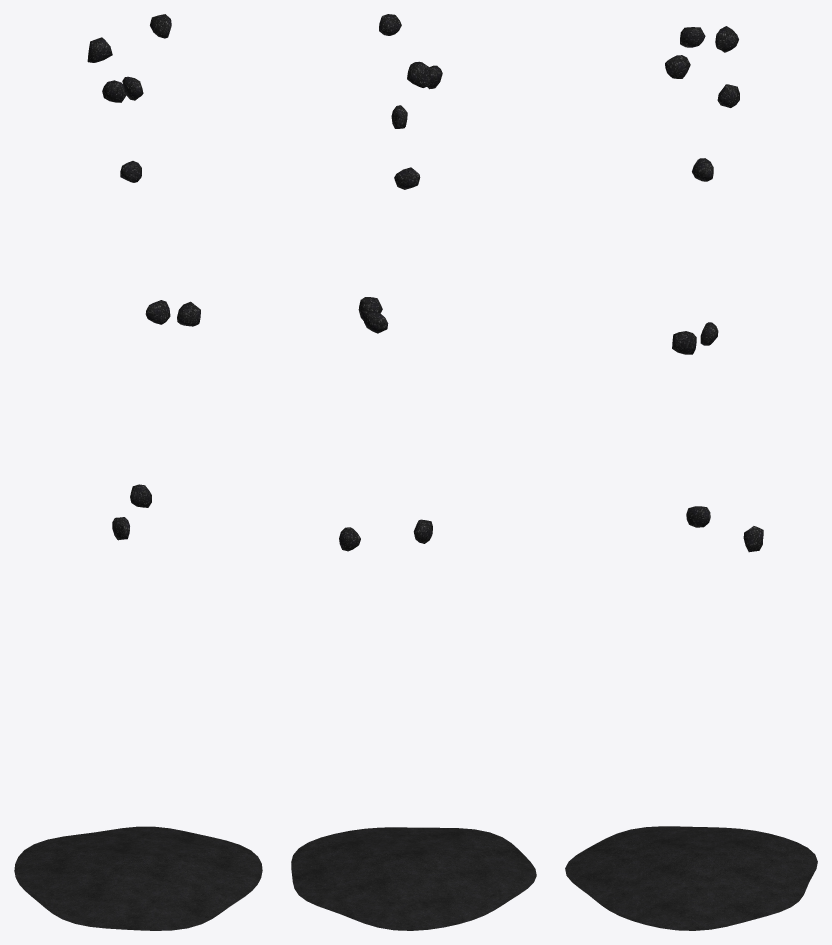
The model's file is PAV-ASF-002_anim.glb.
3 views of the same model, side by side, from view 1: azimuth 30°, elevation 25°; view 2: azimuth 150°, elevation 25°; view 3: azimuth 270°, elevation 25° (orthographic).
Visible parts, largest first — view 1: PAV-ASF-002_anim_monte; view 2: PAV-ASF-002_anim_monte; view 3: PAV-ASF-002_anim_monte.
Boxes of the visible parts, x1,y1,x2,y2 form: PAV-ASF-002_anim_monte: [14, 826, 262, 930]; PAV-ASF-002_anim_monte: [291, 827, 536, 930]; PAV-ASF-002_anim_monte: [565, 826, 817, 930].
Bounding box in the file's own units: 0.4166 × 1.59 × 0.4253.
1 material, 1 textured.
